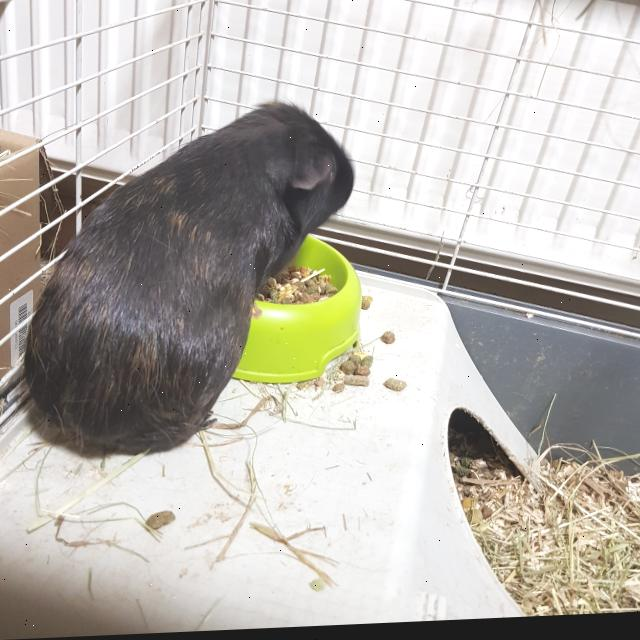guinea pig: (18, 100, 358, 462)
